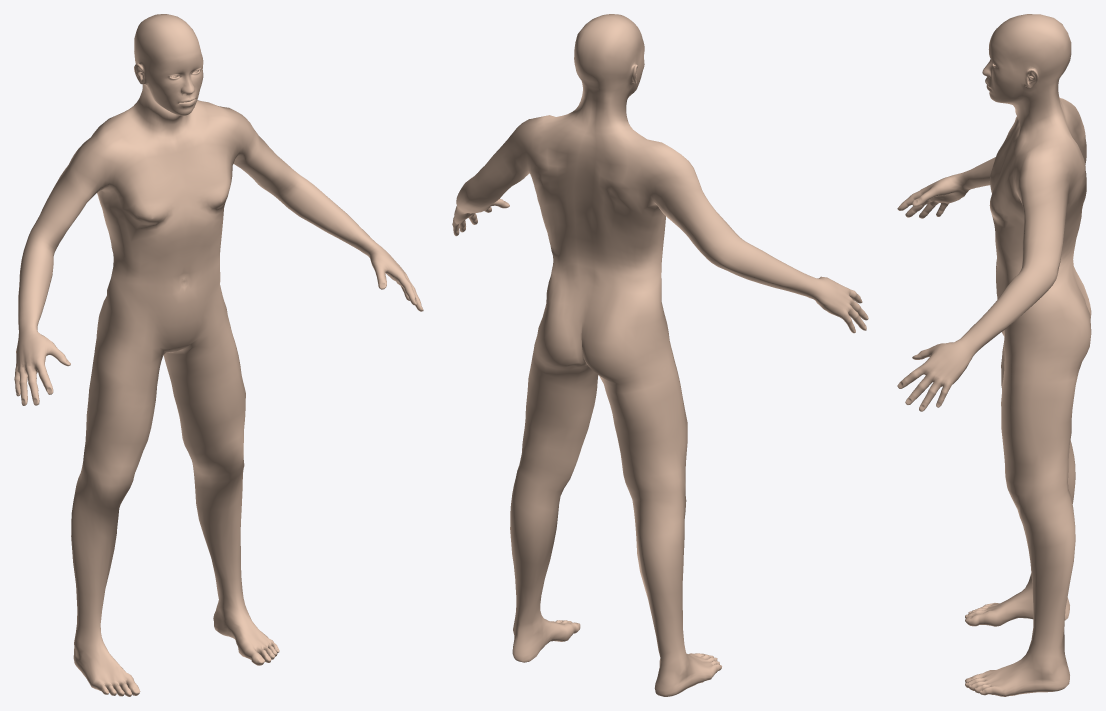
File: malev2.glb
The picture shows the model from 3 angles, left to right: view 1: azimuth 30°, elevation 25°; view 2: azimuth 150°, elevation 25°; view 3: azimuth 270°, elevation 25°; orthographic projection.
Parts seen in each view (by area): view 1: Male_Target; view 2: Male_Target; view 3: Male_Target.
Part boxes in pixels (x1,y1,x2,y2): Male_Target: [14, 14, 423, 696]; Male_Target: [452, 14, 868, 696]; Male_Target: [897, 14, 1091, 696].
Bounding box in the file's own units: 1.13 × 1.73 × 0.4761.
